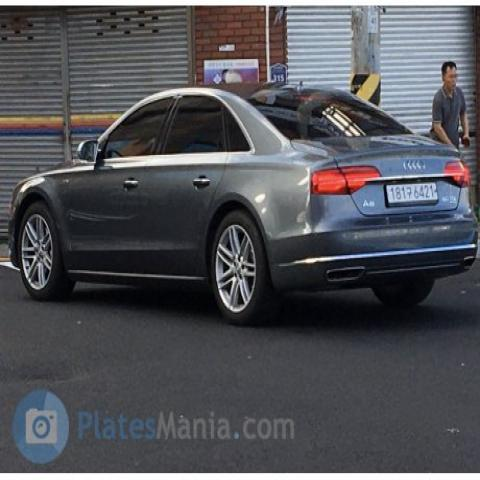LP: (374, 169, 452, 213)
